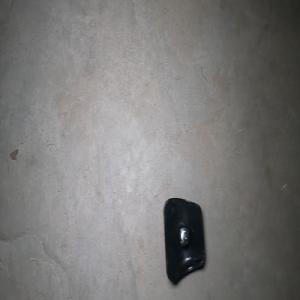LuggagePart: (162, 196, 206, 283)
